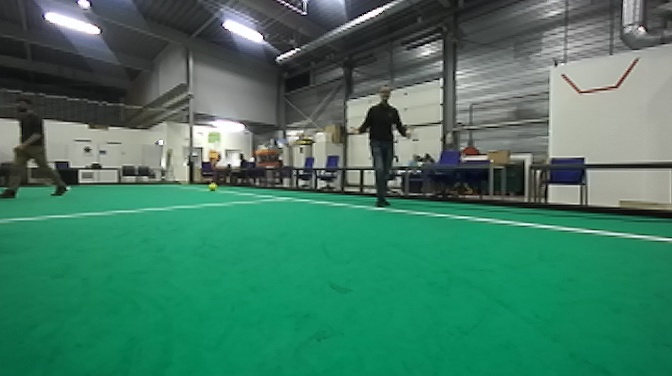ball: (206, 181, 219, 191)
human: (362, 83, 406, 212)
